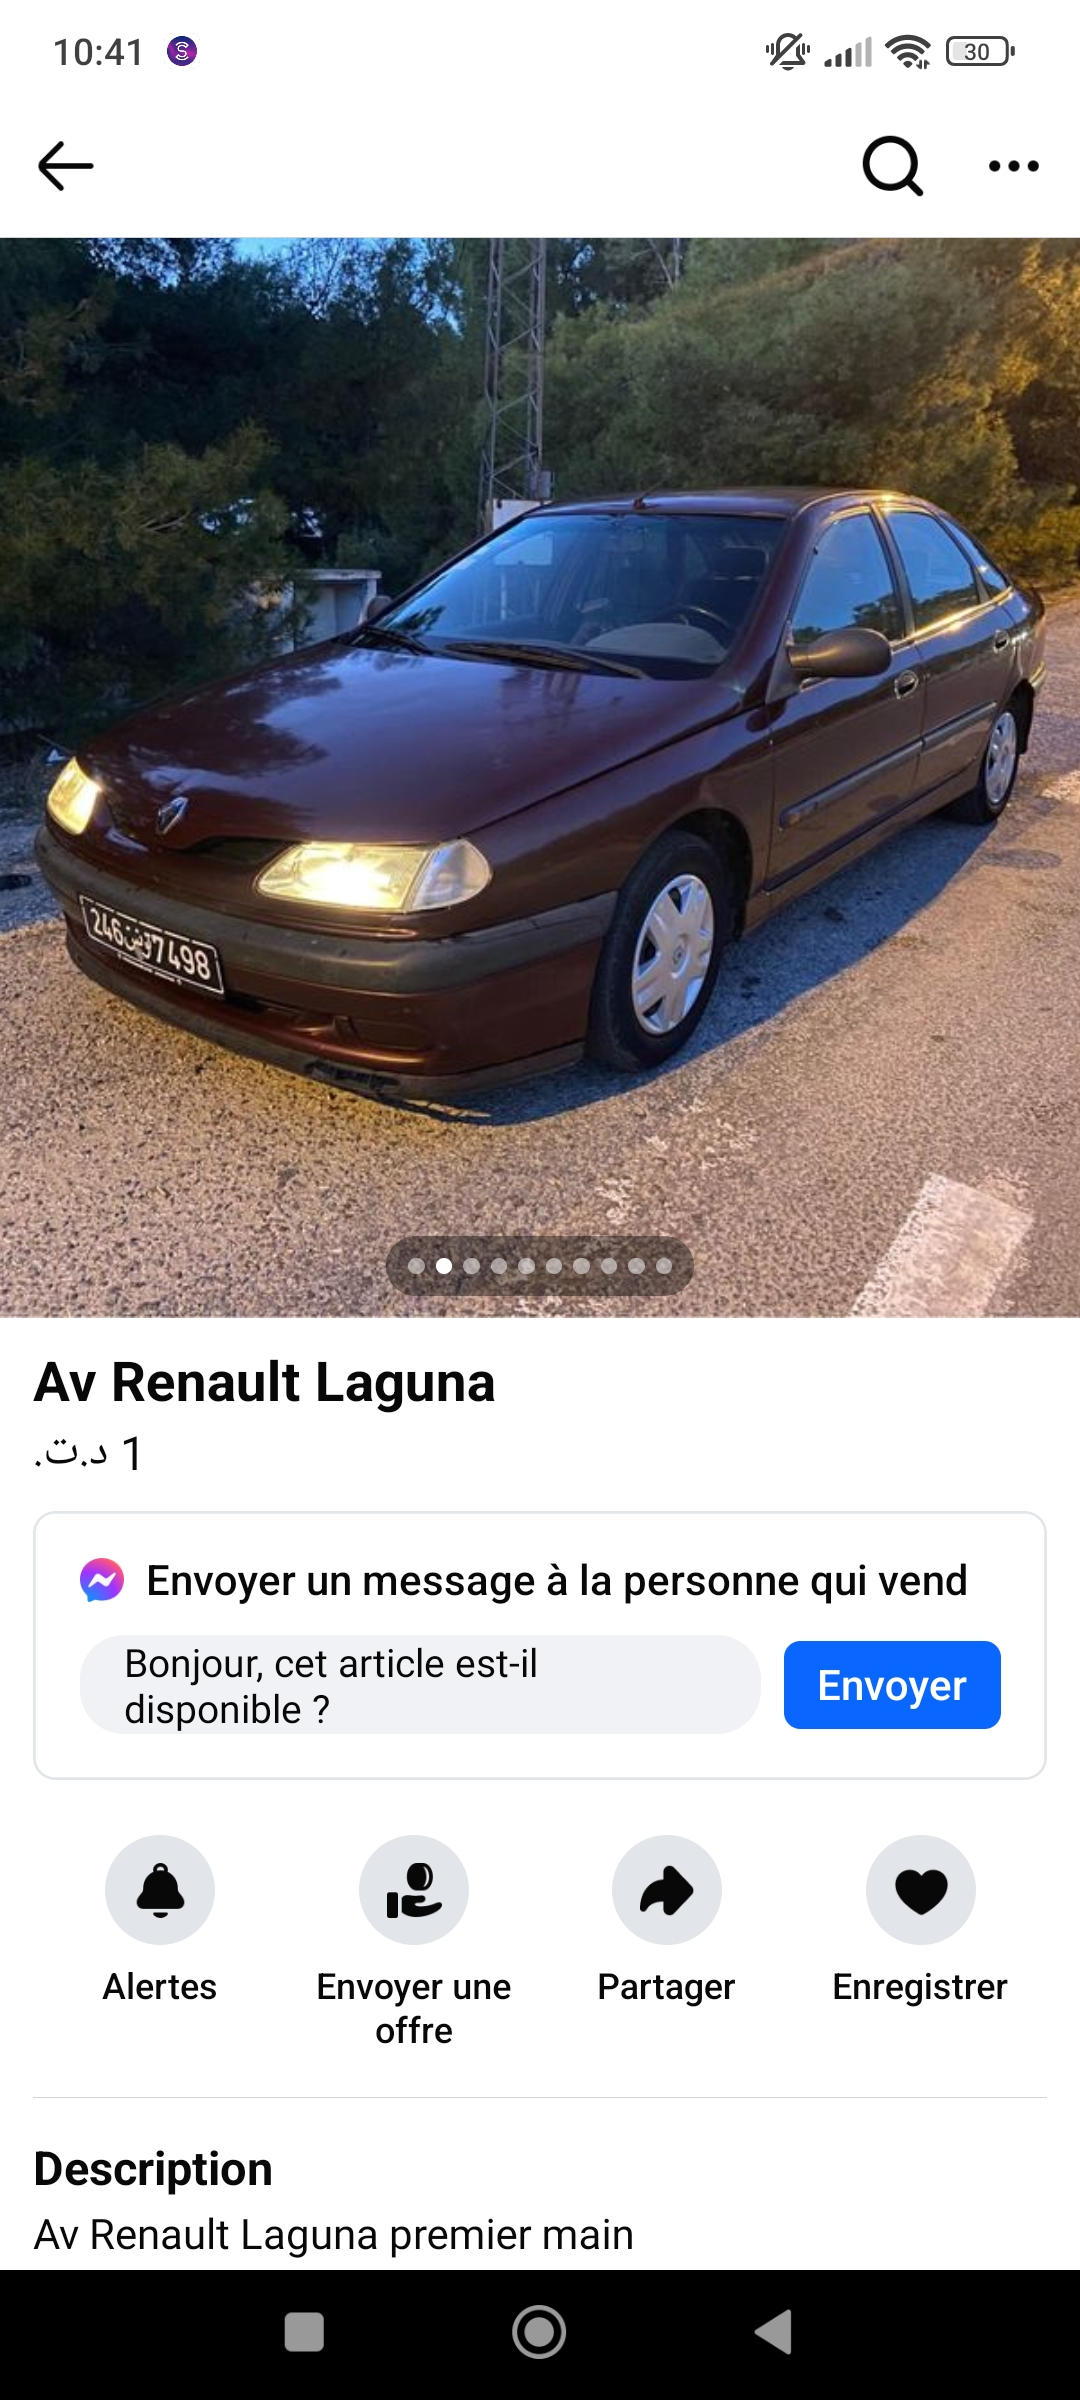kia: (38, 487, 1043, 1087)
